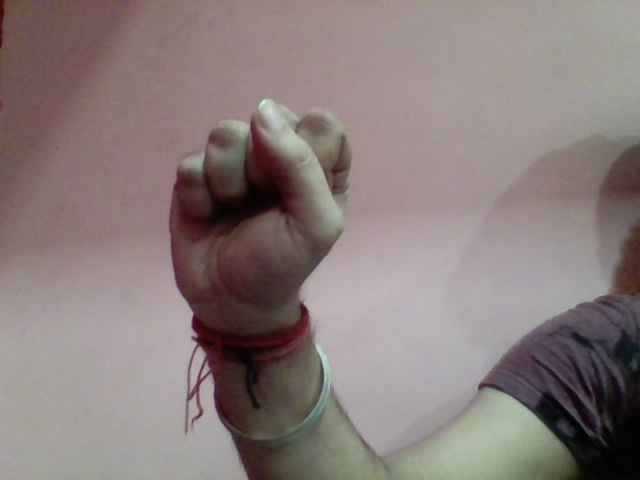s: (155, 89, 353, 325)
